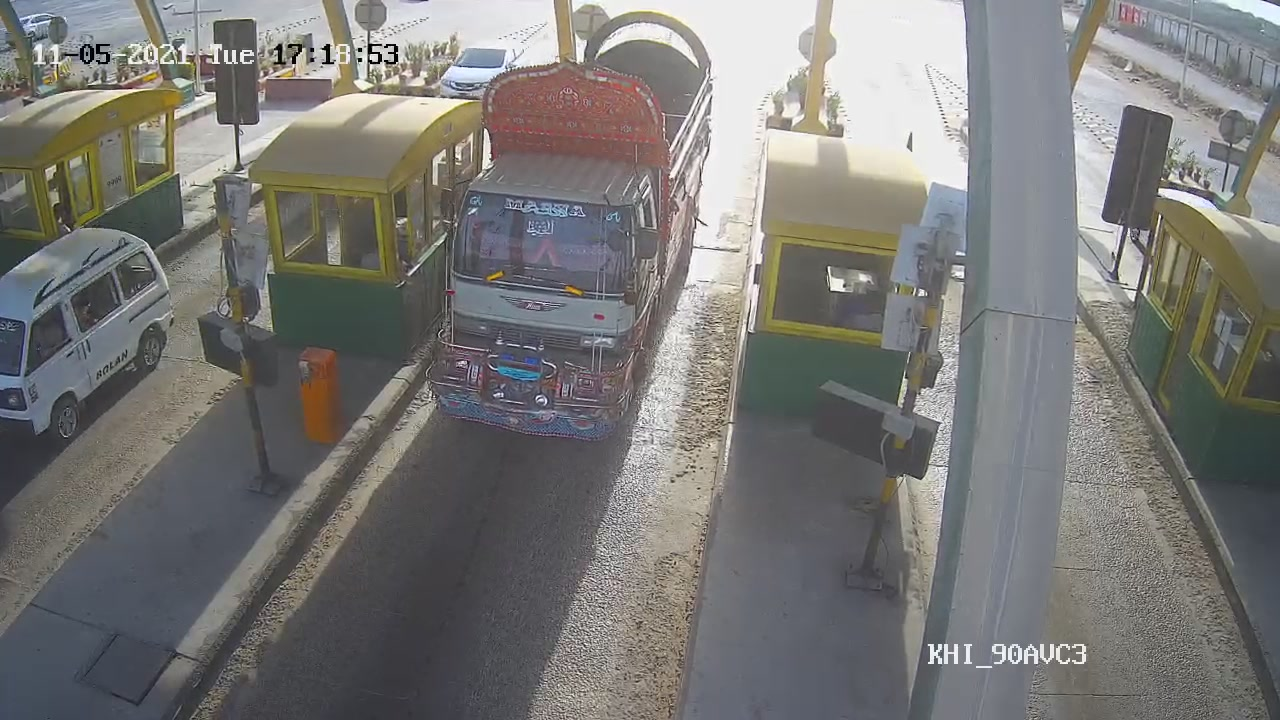F5: (416, 8, 730, 432)
